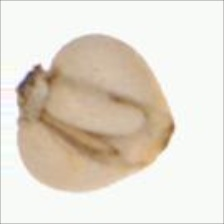L5: (51, 73, 151, 145), (12, 62, 55, 127), (148, 103, 181, 162)
L6: (12, 32, 178, 197)
